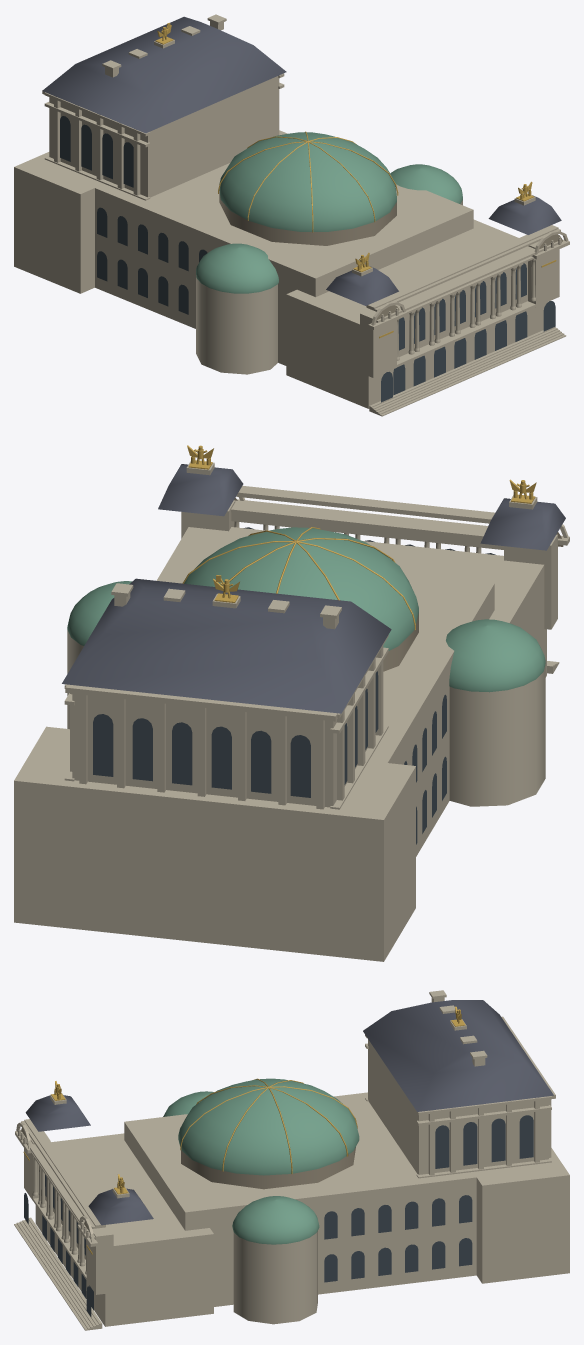
Rendered from paris-palais-garnier-far.glb.
The picture shows the model from 3 angles, top to bottom: view 1: azimuth 30°, elevation 25°; view 2: azimuth 150°, elevation 25°; view 3: azimuth 270°, elevation 25°; orthographic projection. The views are drawn at different scales.
Visible parts, largest first — view 1: paris-palais-garnier-stone, paris-palais-garnier-patina, paris-palais-garnier-roof, paris-palais-garnier-shadow, paris-palais-garnier-stoneDark, paris-palais-garnier-gold; view 2: paris-palais-garnier-stone, paris-palais-garnier-roof, paris-palais-garnier-patina, paris-palais-garnier-shadow, paris-palais-garnier-gold, paris-palais-garnier-stoneDark; view 3: paris-palais-garnier-stone, paris-palais-garnier-patina, paris-palais-garnier-roof, paris-palais-garnier-shadow, paris-palais-garnier-stoneDark, paris-palais-garnier-gold.
Boxes of the visible parts, box(x1,y1,x2,y2) form: paris-palais-garnier-stone: box(14, 14, 569, 416); paris-palais-garnier-patina: box(196, 132, 462, 293); paris-palais-garnier-roof: box(42, 16, 561, 305); paris-palais-garnier-shadow: box(60, 116, 555, 402); paris-palais-garnier-stoneDark: box(219, 190, 562, 322); paris-palais-garnier-gold: box(155, 22, 556, 338); paris-palais-garnier-stone: box(14, 461, 569, 961); paris-palais-garnier-roof: box(62, 464, 565, 713); paris-palais-garnier-patina: box(67, 527, 545, 692); paris-palais-garnier-shadow: box(93, 527, 495, 844); paris-palais-garnier-gold: box(182, 445, 536, 629); paris-palais-garnier-stoneDark: box(234, 497, 563, 671); paris-palais-garnier-stone: box(14, 990, 569, 1330); paris-palais-garnier-patina: box(163, 1078, 359, 1244); paris-palais-garnier-roof: box(25, 1000, 553, 1225); paris-palais-garnier-shadow: box(24, 1115, 533, 1316); paris-palais-garnier-stoneDark: box(21, 1127, 355, 1231); paris-palais-garnier-gold: box(23, 1006, 465, 1254).
Size of the model in its own units: 117 by 72.05 by 164.
